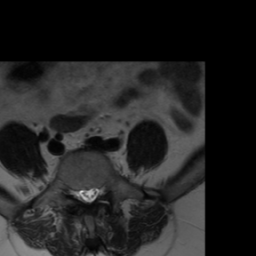CCS_severe_stenosis: (85, 182, 92, 210)
LFS_normal: (100, 177, 108, 202)
LLS_normal: (92, 179, 100, 207)
RFS_normal: (69, 179, 77, 204)
RLS_normal: (77, 180, 85, 207)
